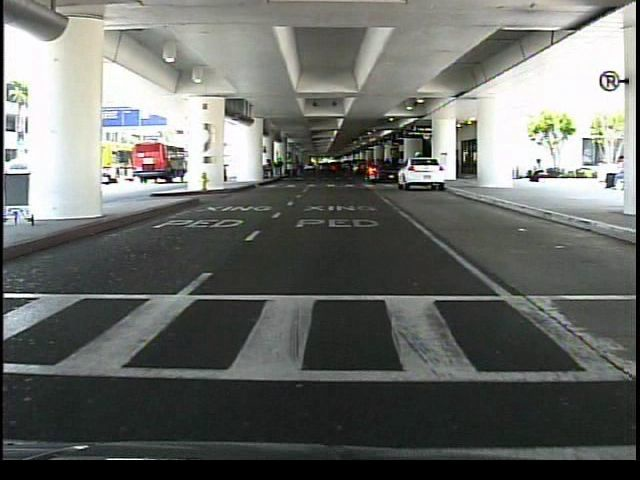person: (522, 153, 550, 190)
